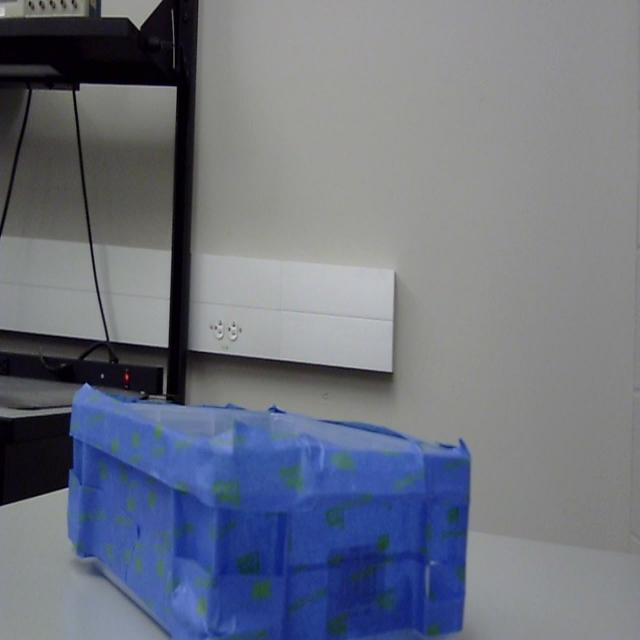bucket: (66, 387, 472, 640)
